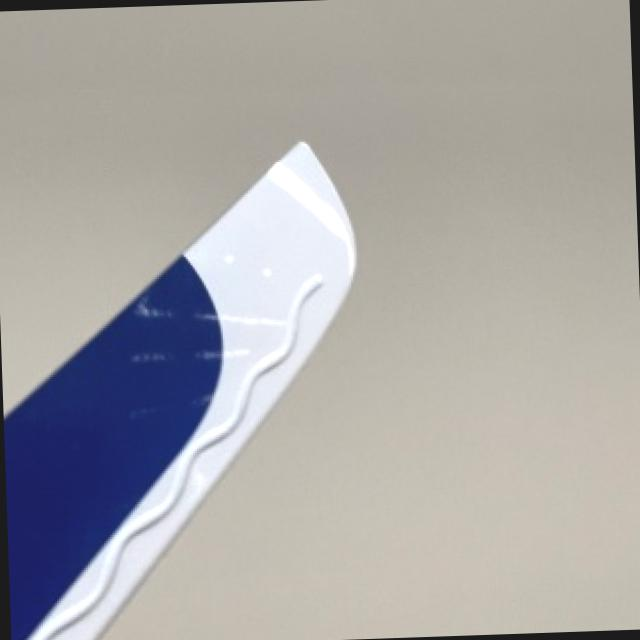healthy: (7, 141, 354, 640)
